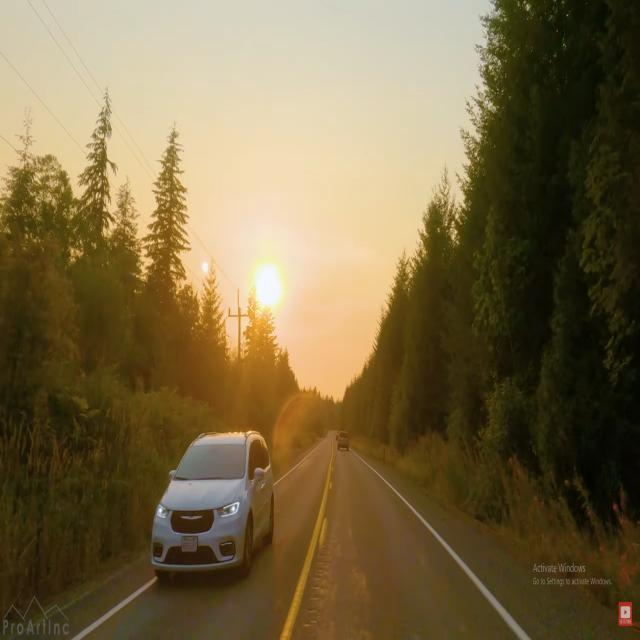sun: (252, 257, 287, 314)
